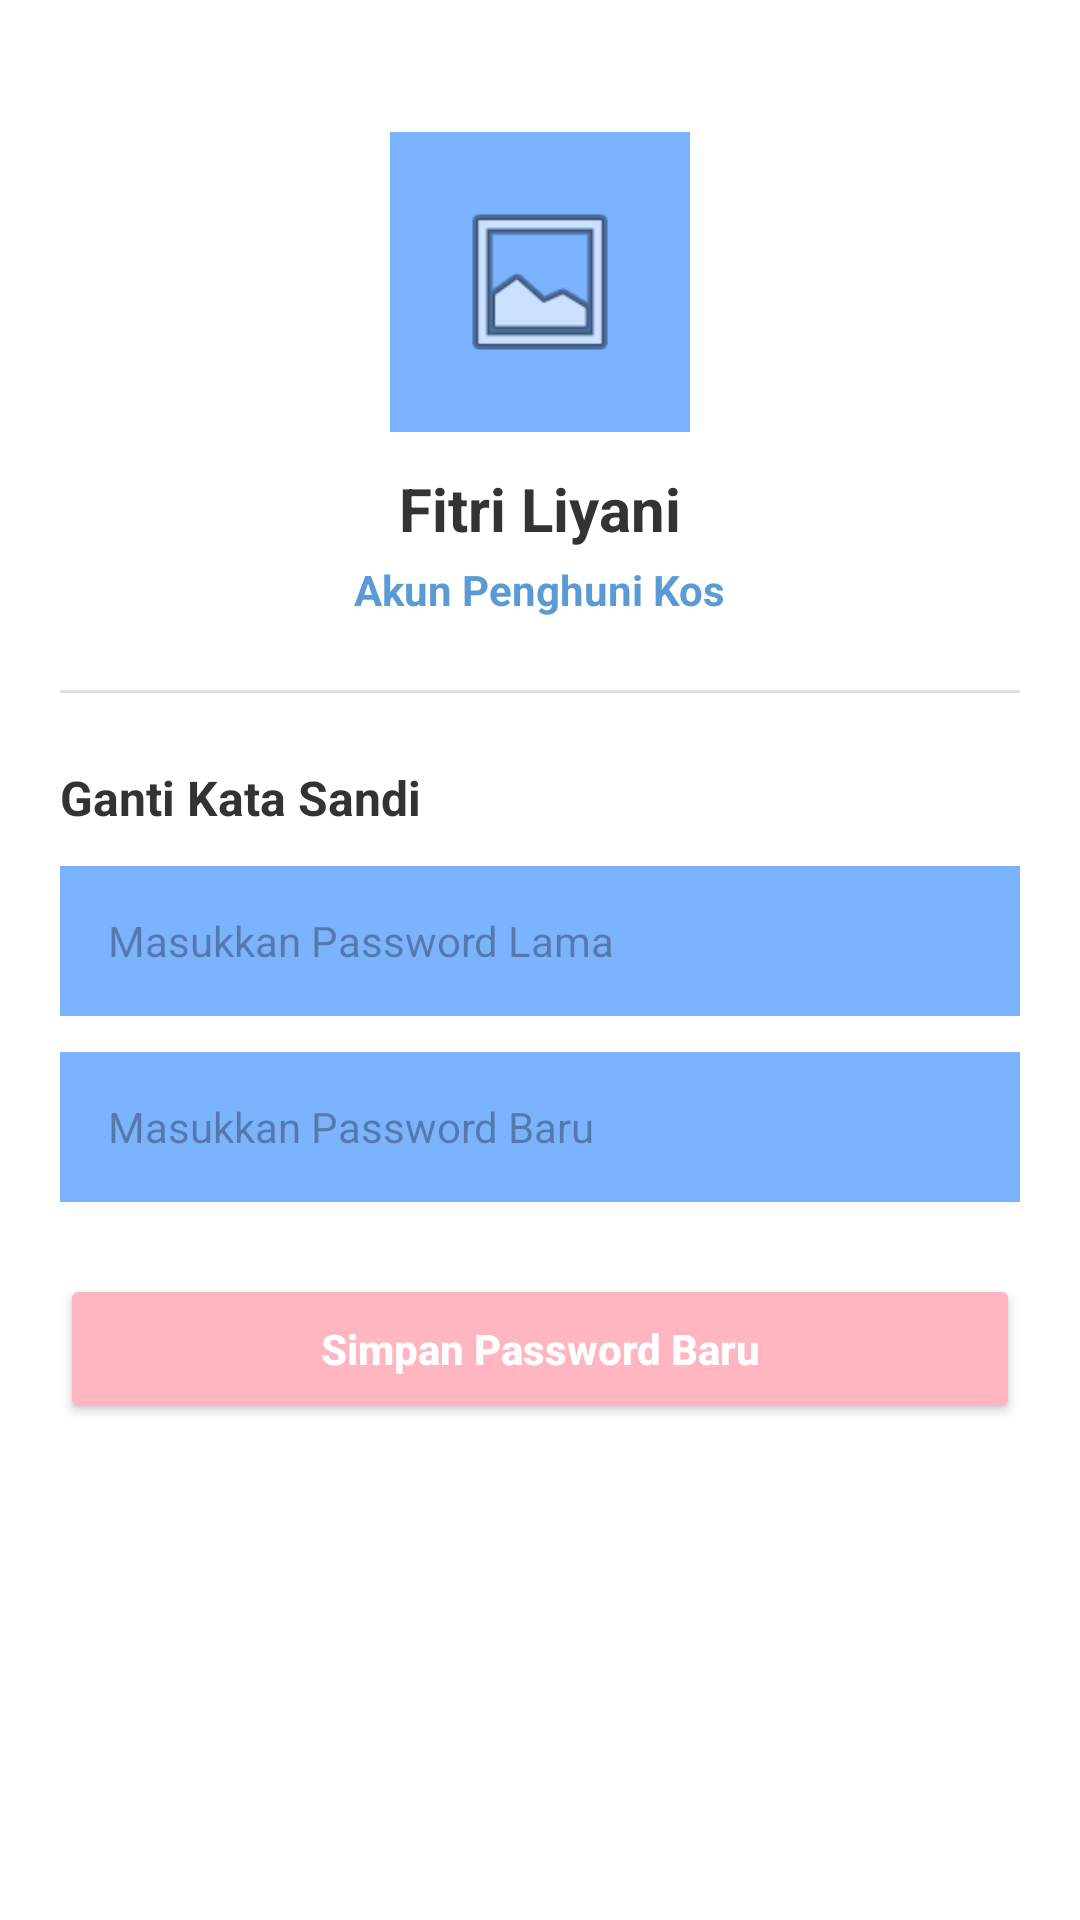

Screen size 1080 × 1920. Icon name, then its center in pixels as (x,y):
gallery: (540,282)
